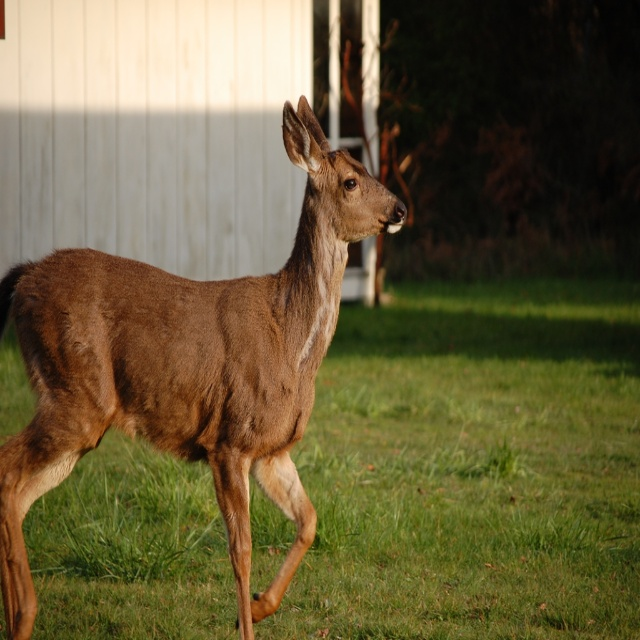Deer: (0, 95, 407, 639)
